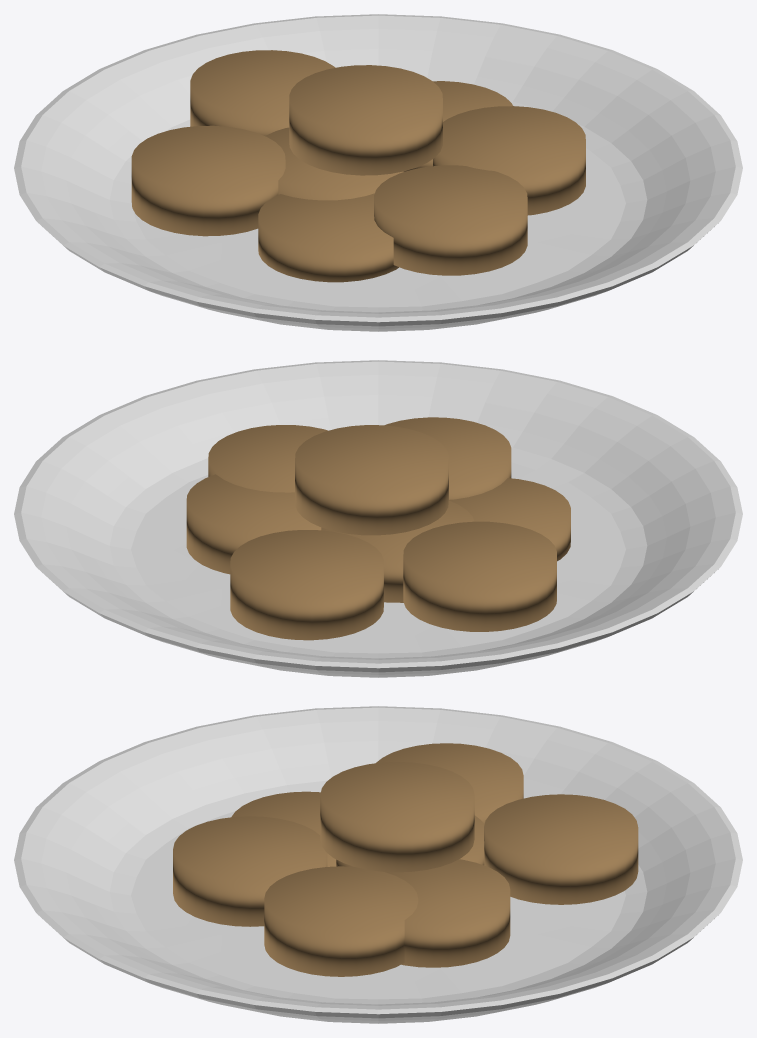
The model's file is kue bakpia.fbx.
3 views of the same model, one above another, from view 1: azimuth 30°, elevation 25°; view 2: azimuth 150°, elevation 25°; view 3: azimuth 270°, elevation 25° (orthographic).
Visible parts, largest first — view 1: Cylinder, Cylinder.003, Cylinder.005, Cylinder.008, Cylinder.004, Cylinder.006, Cylinder.007, Cylinder.002, Cylinder.001; view 2: Cylinder, Cylinder.008, Cylinder.007, Cylinder.003, Cylinder.001, Cylinder.004, Cylinder.005, Cylinder.006, Cylinder.002; view 3: Cylinder, Cylinder.003, Cylinder.007, Cylinder.004, Cylinder.005, Cylinder.001, Cylinder.008, Cylinder.006, Cylinder.002.
Boxes of the visible parts, x1,y1,x2,y2 form: Cylinder: (14, 14, 742, 331); Cylinder.003: (289, 65, 442, 175); Cylinder.005: (374, 165, 527, 275); Cylinder.008: (131, 125, 285, 236); Cylinder.004: (433, 106, 585, 215); Cylinder.006: (258, 193, 398, 282); Cylinder.007: (190, 50, 335, 135); Cylinder.002: (265, 127, 403, 200); Cylinder.001: (403, 81, 512, 171); Cylinder: (14, 360, 742, 677); Cylinder.008: (403, 521, 556, 631); Cylinder.007: (230, 530, 383, 640); Cylinder.003: (295, 425, 448, 535); Cylinder.001: (186, 474, 321, 574); Cylinder.004: (208, 425, 327, 492); Cylinder.005: (385, 417, 511, 499); Cylinder.006: (449, 478, 570, 561); Cylinder.002: (321, 500, 474, 602); Cylinder: (14, 706, 742, 1023); Cylinder.003: (320, 762, 474, 872); Cylinder.007: (484, 794, 638, 904); Cylinder.004: (264, 866, 418, 976); Cylinder.005: (173, 816, 327, 926); Cylinder.001: (385, 859, 510, 967); Cylinder.008: (376, 743, 523, 824); Cylinder.006: (231, 791, 336, 866); Cylinder.002: (336, 815, 484, 866).
Size of the model in its own units: 231 by 41.63 by 231.
